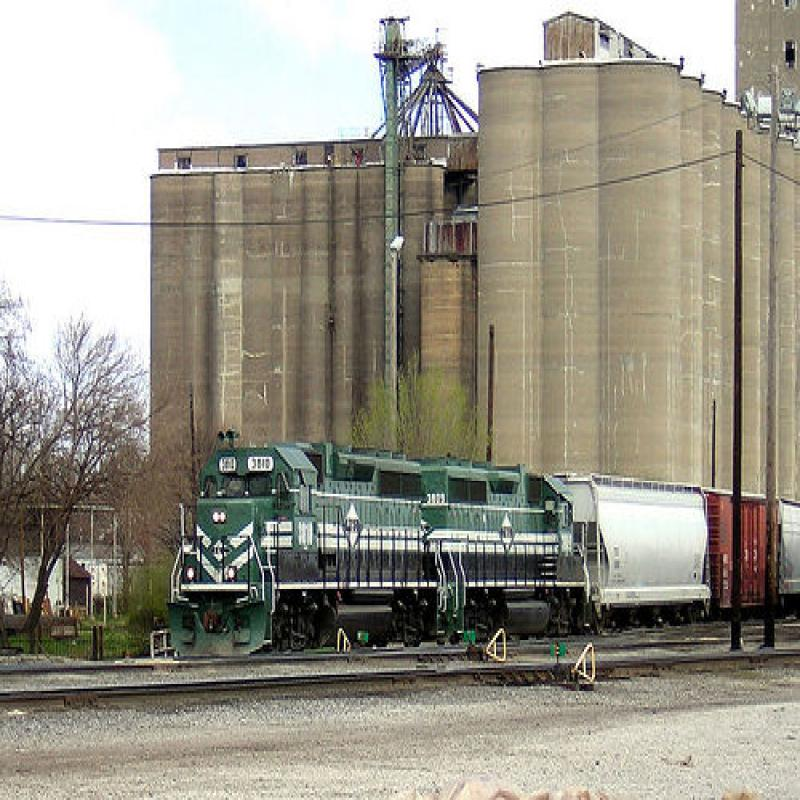train: (161, 437, 799, 664)
